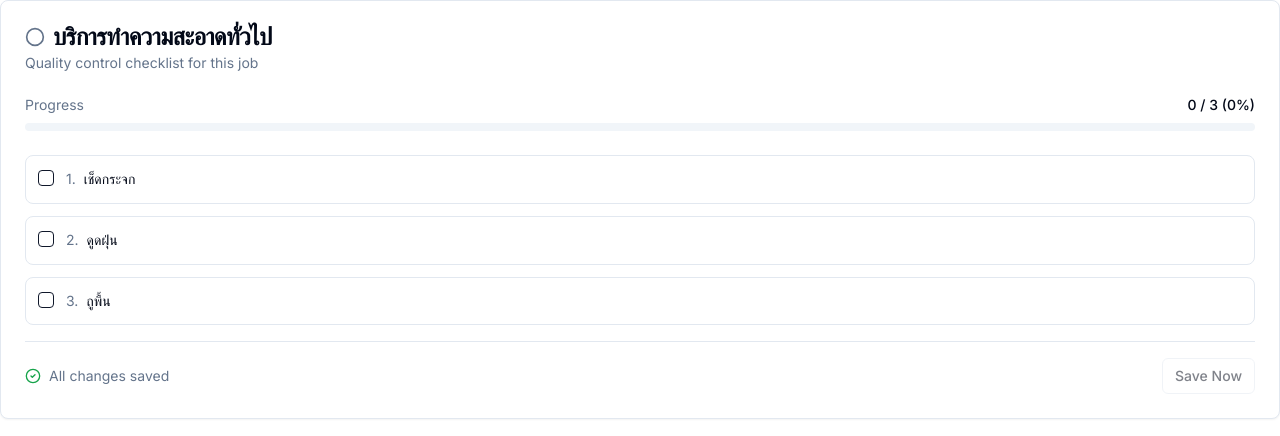
Test case: ChecklistExecutor › Progress Calculation › should calculate progress correctly for various completion states
This screenshot has width=1280, height=436.
Check: the text "0 / 3 (0%)" is shown, box [1188, 95, 1255, 115]
What coordinates should you click on to do the following:
click the checkbox named "เช็ดกระจก" in the row of "เช็ดกระจก"
I would click on:
 (46, 178)
Its box is [38, 170, 54, 186].
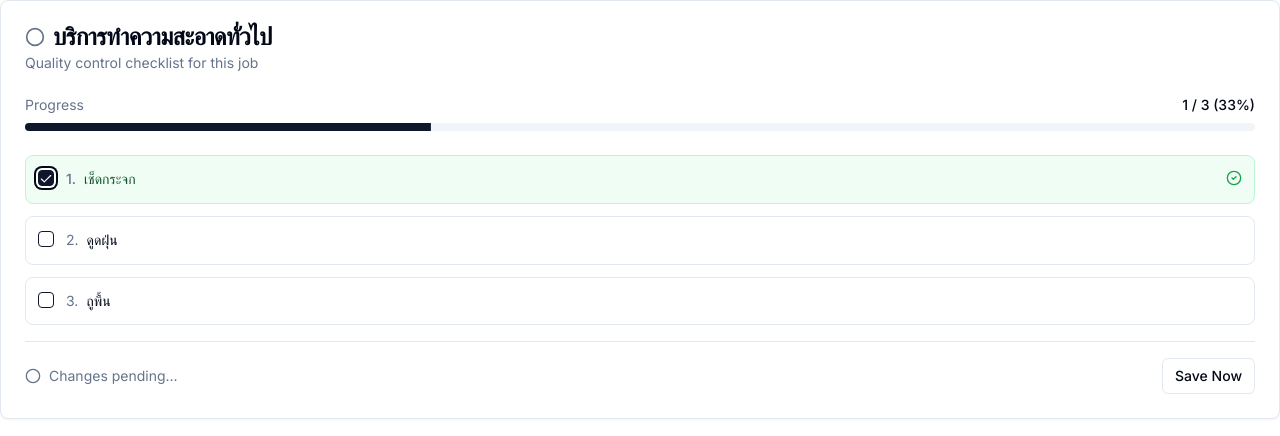
Check: the text "1 / 3 (33%)" is shown, box [1182, 95, 1255, 115]
What coordinates should you click on to do the following:
click the checkbox named "ดูดฝุ่น" in the row of "ดูดฝุ่น"
I would click on:
 (46, 239)
Its box is [38, 231, 54, 247].
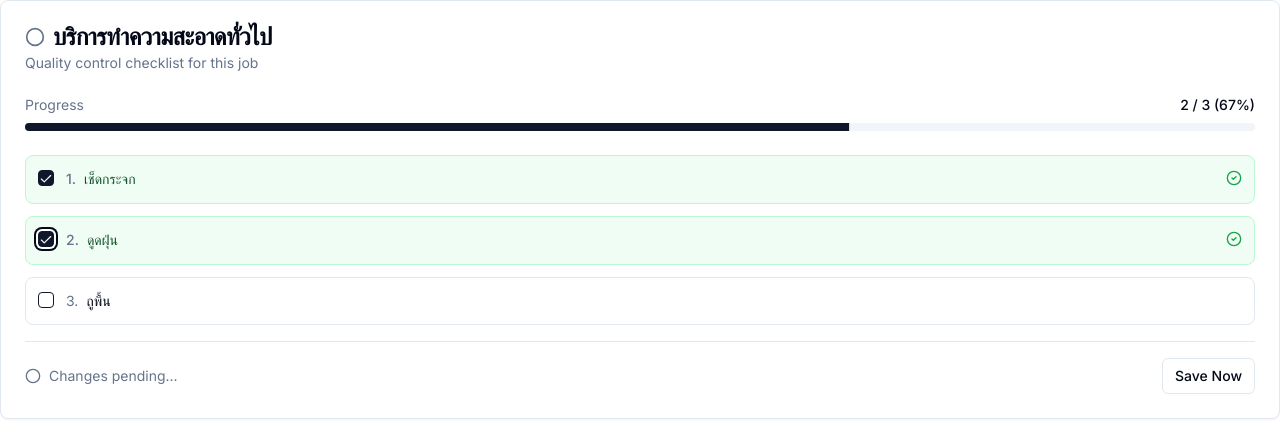
Check: the text "2 / 3 (67%)" is shown, box [1180, 95, 1255, 115]
What coordinates should you click on to do the following:
click the checkbox named "ถูพื้น" in the row of "ถูพื้น"
I would click on:
 (46, 300)
Its box is [38, 292, 54, 308].
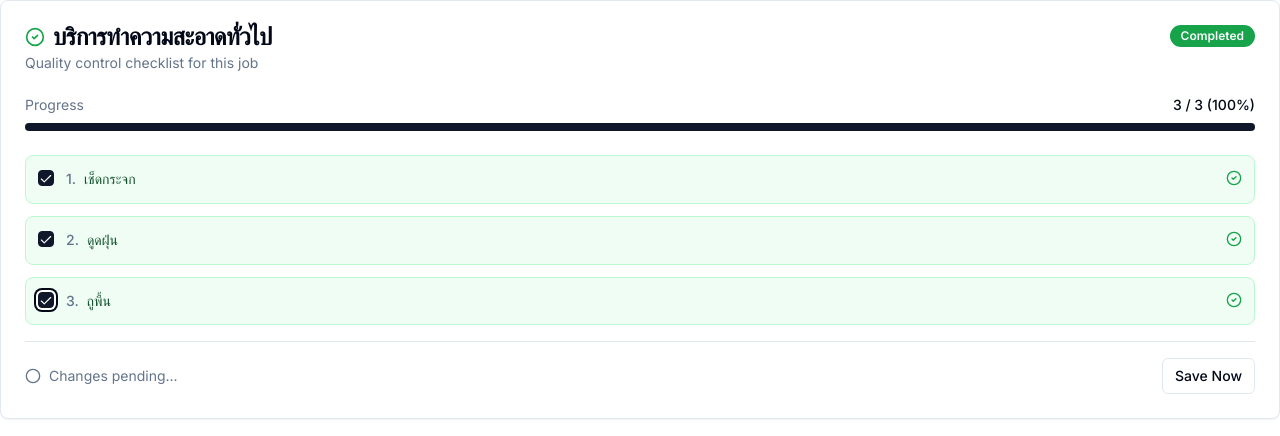
Check: the text "3 / 3 (100%)" is shown, box [1173, 95, 1255, 115]
Check: the text "Completed" is shown, box [1170, 25, 1255, 47]
